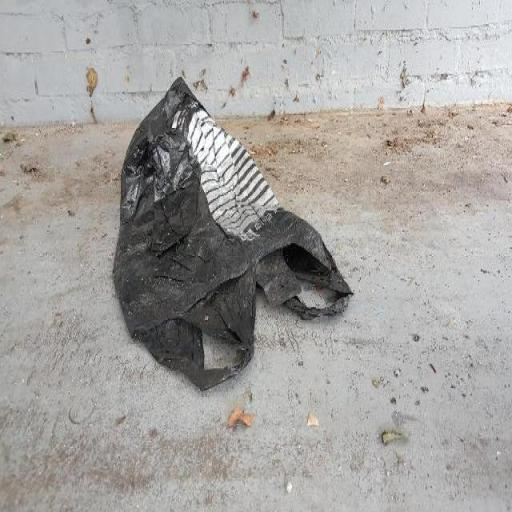plastic-bag: (110, 74, 354, 394)
